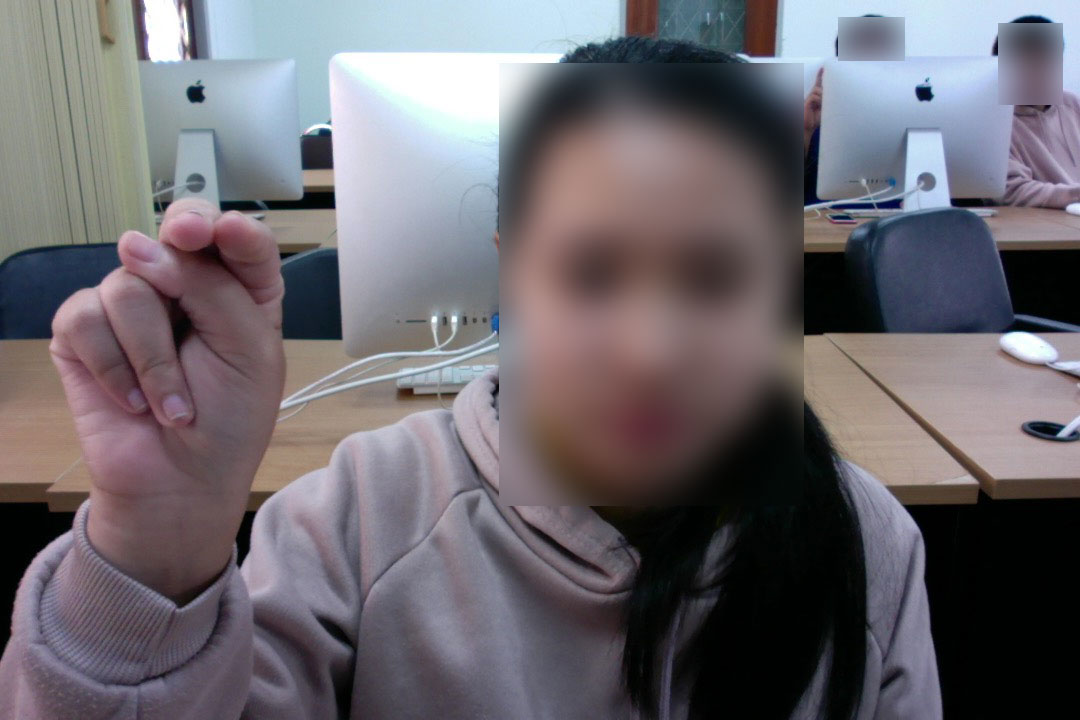nor: (42, 189, 295, 550)
